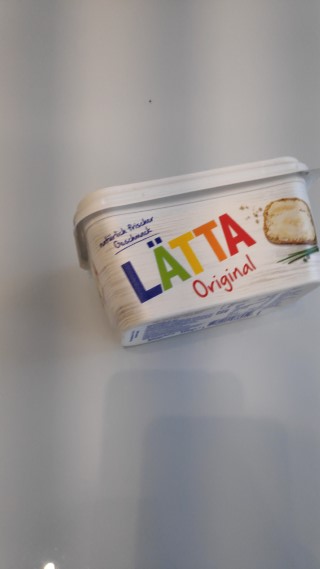laetta: (71, 154, 320, 349)
